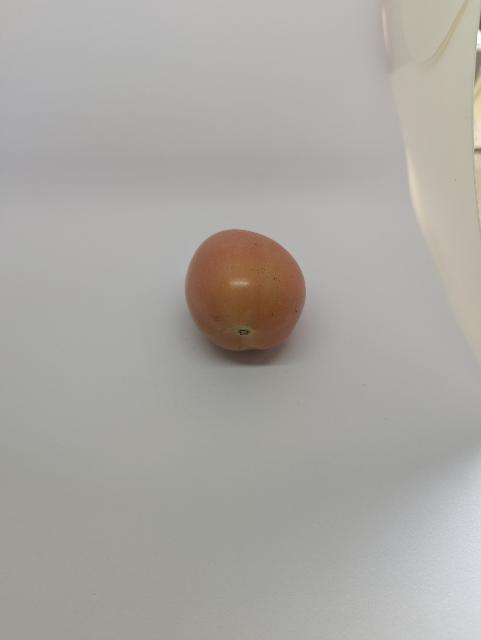turning: (168, 220, 315, 359)
